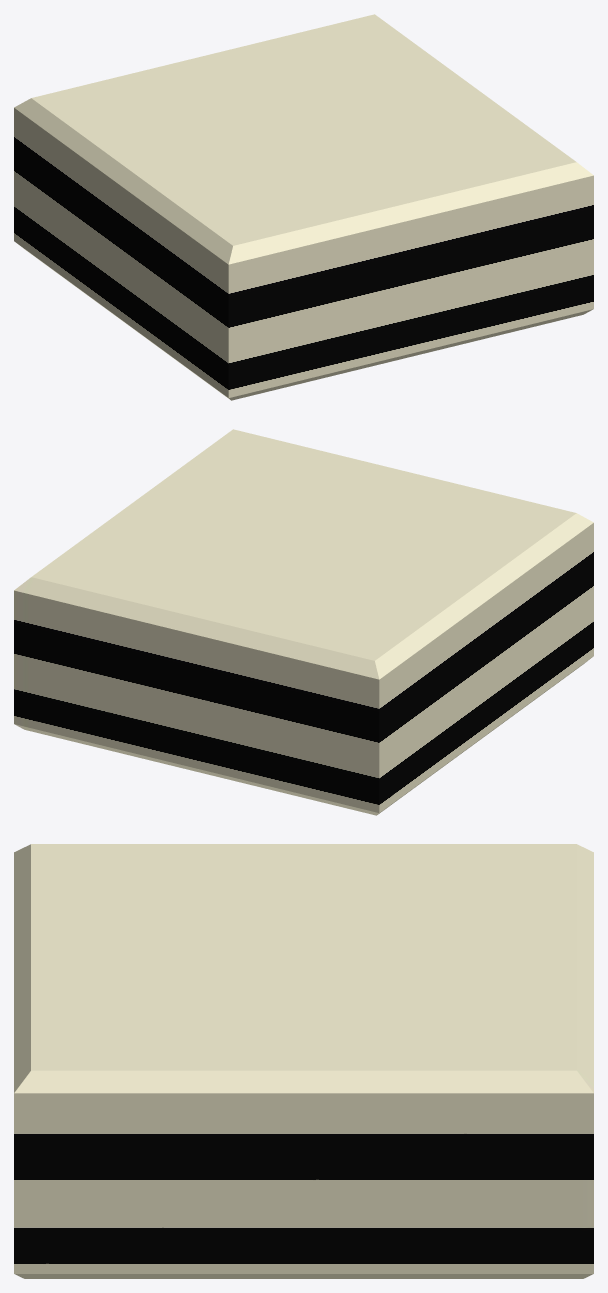
The model's file is white bassett.FBX.
3 renders of one model, top to bottom at view 1: azimuth 30°, elevation 25°; view 2: azimuth 150°, elevation 25°; view 3: azimuth 270°, elevation 25°, orthographic. The views are drawn at different scales.
Visible parts, largest first — view 1: Box002; view 2: Box002; view 3: Box002.
Part boxes in pixels (x1,y1,x2,y2): Box002: [14, 14, 593, 400]; Box002: [14, 429, 593, 815]; Box002: [14, 844, 593, 1278].
Bounding box in the file's own units: 10.99 × 4.37 × 11.18.
Materials: 1 (1 with a texture image).
